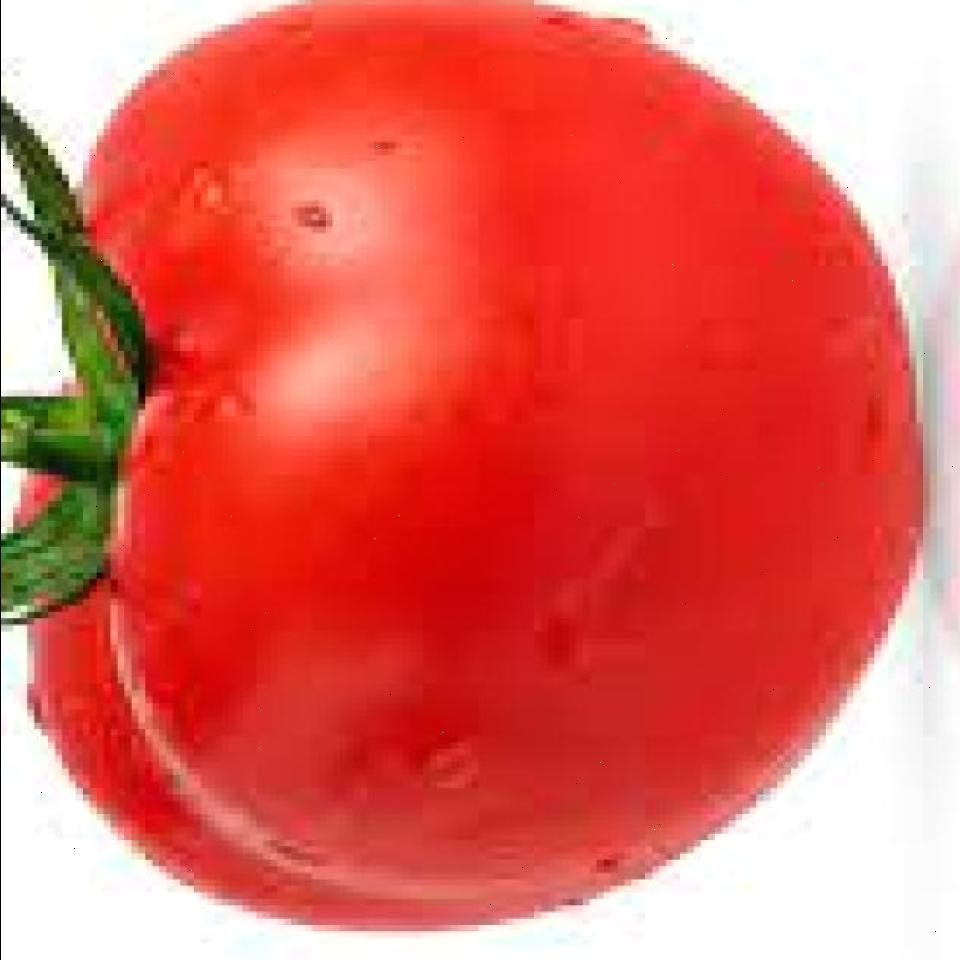Healthy: (19, 7, 943, 960)
